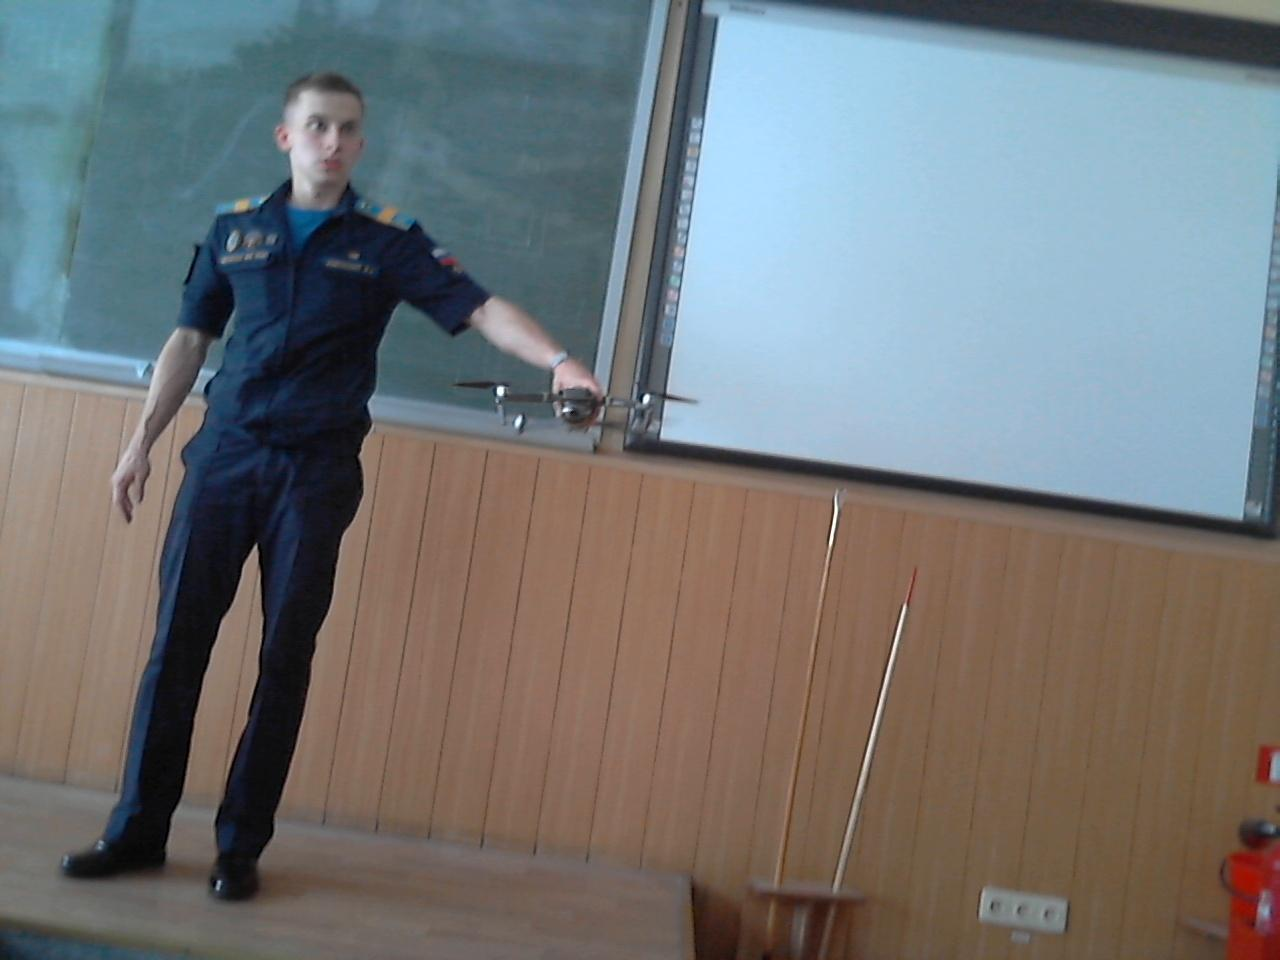drone: (454, 356, 692, 462)
